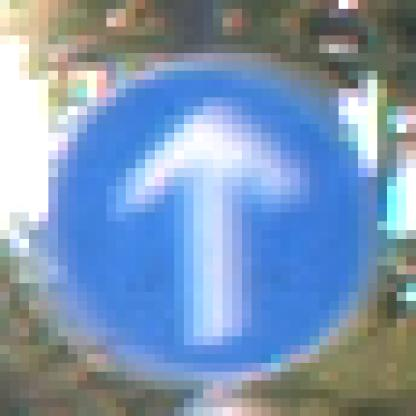AheadOnly: (49, 54, 369, 373)
